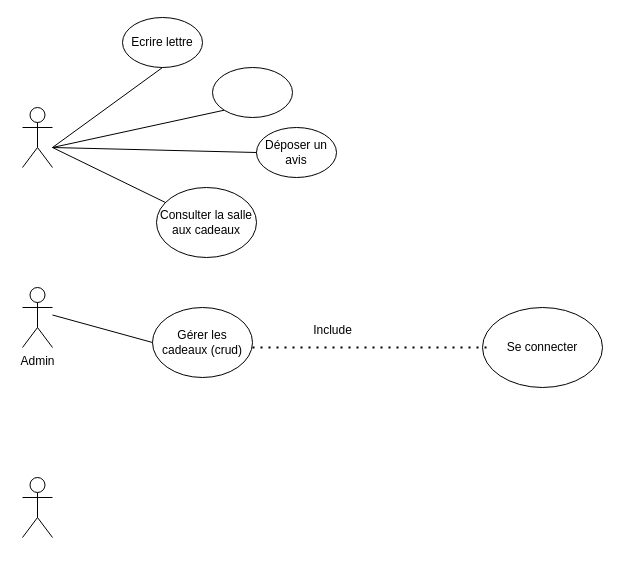
Image size: 620x576. Some labels were removed from this diagram. Here are the shapes that lost their labels. From the top down, the box of each, then its label:
(212, 66, 292, 118): Contacter l'admin
(22, 106, 52, 168): Visiteur
(22, 476, 52, 538): Elfes
